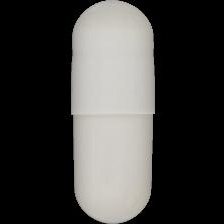63187-450: (0, 0, 224, 224)
